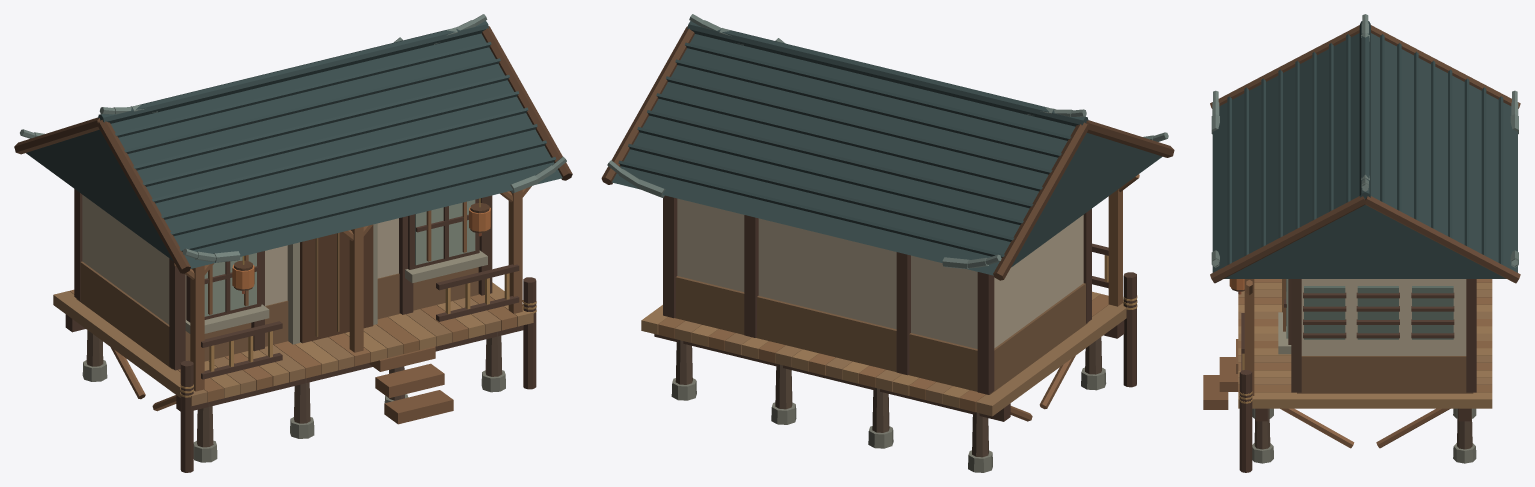
The model's file is waterside-stilt-house.glb.
3 views of the same model, side by side, from view 1: azimuth 30°, elevation 25°; view 2: azimuth 150°, elevation 25°; view 3: azimuth 270°, elevation 25° (orthographic). The views are drawn at different scales.
Parts seen in each view (by area): view 1: SculptedModel; view 2: SculptedModel; view 3: SculptedModel.
Part boxes in pixels (box(x1,y1,x2,y2)): SculptedModel: box(14, 14, 572, 472); SculptedModel: box(601, 14, 1174, 472); SculptedModel: box(1203, 14, 1520, 472).
Bounding box in the file's own units: 4.79 × 3.76 × 3.67.
